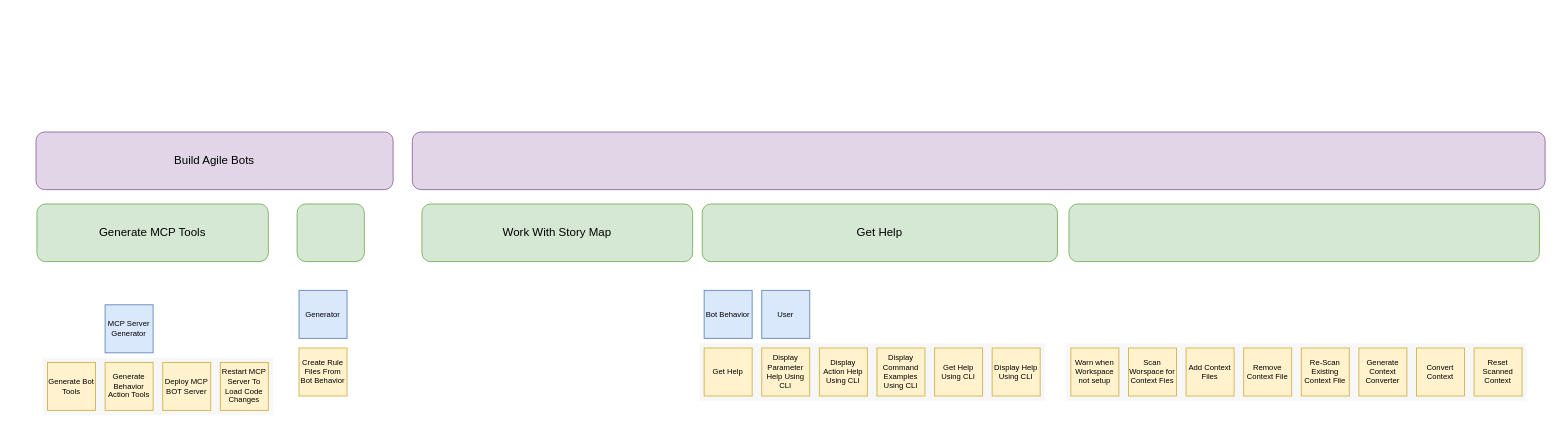
Image size: 1562x432. Some labels were removed from this diagram. Here are the shapes that lost their labels. From the top down, the centre of each, then its label:
At point 978,160: "Invoke Bot".
At point 330,232: "Generate CLI".
At point 1303,232: "Provide Context".
